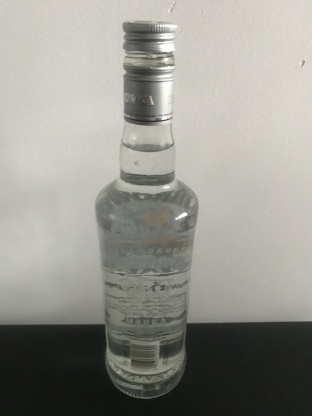nakretka: (121, 17, 178, 126)
